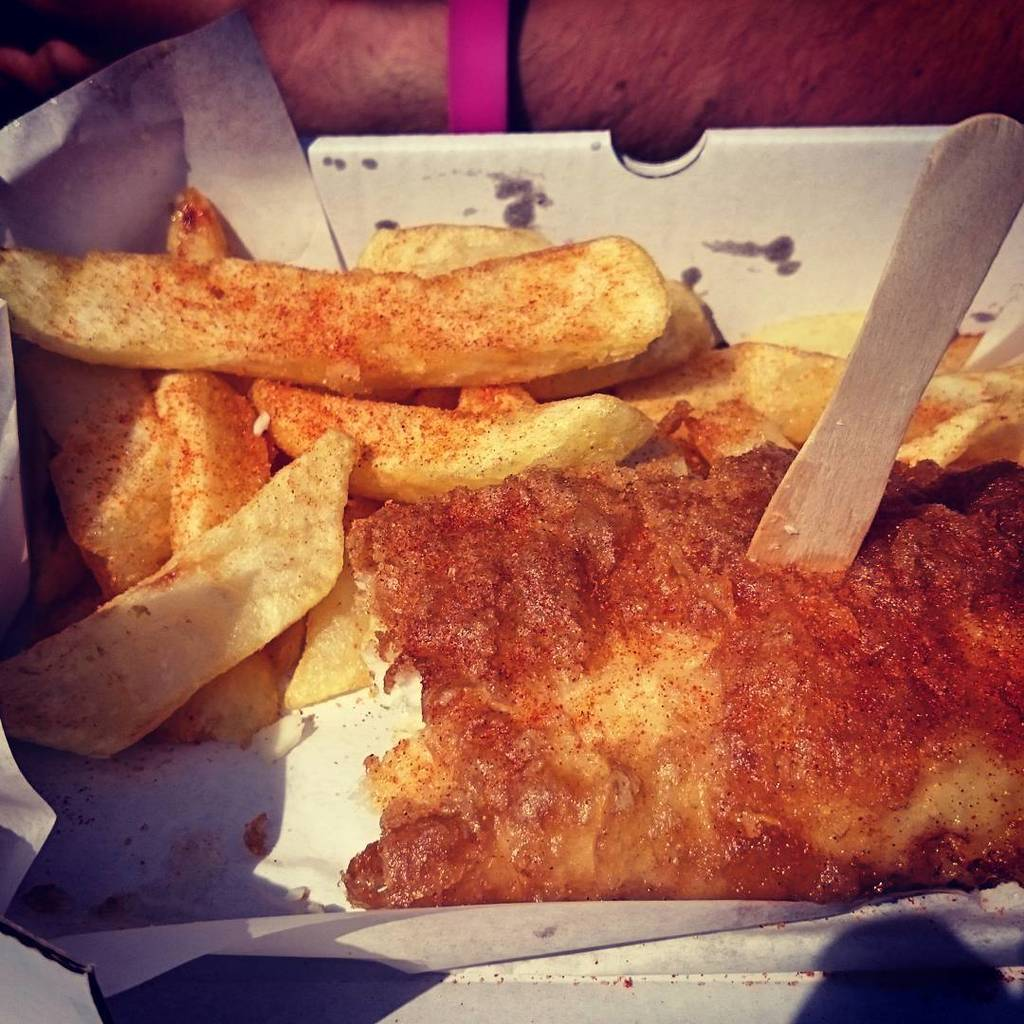French fries: (0, 434, 356, 760), (0, 221, 662, 377), (590, 335, 1020, 487), (7, 328, 199, 611), (236, 384, 632, 513), (154, 366, 285, 750)
